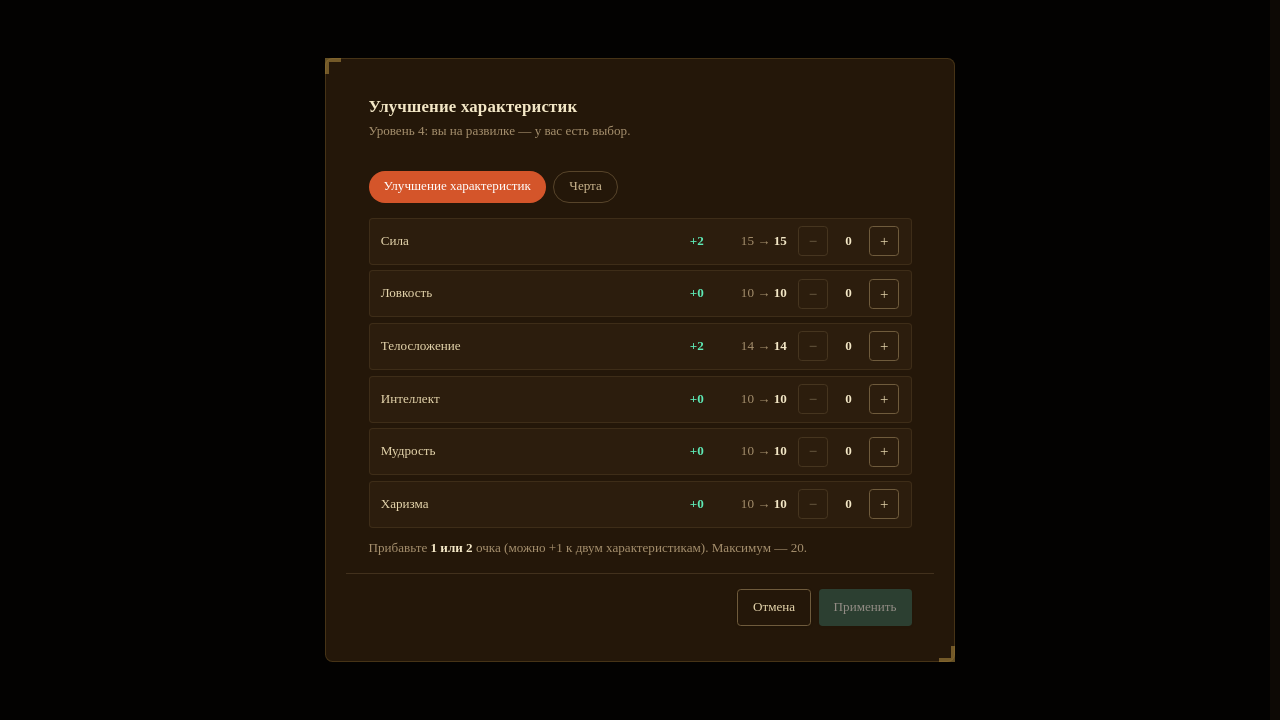
Test case: AsiChoiceModal › feat mode › lazily loads feat details via the view button
This screenshot has width=1280, height=720.
What coordinates should you click on to do the following:
click the button "Черта"
I would click on:
 (586, 187)
Its box is [553, 171, 618, 203].
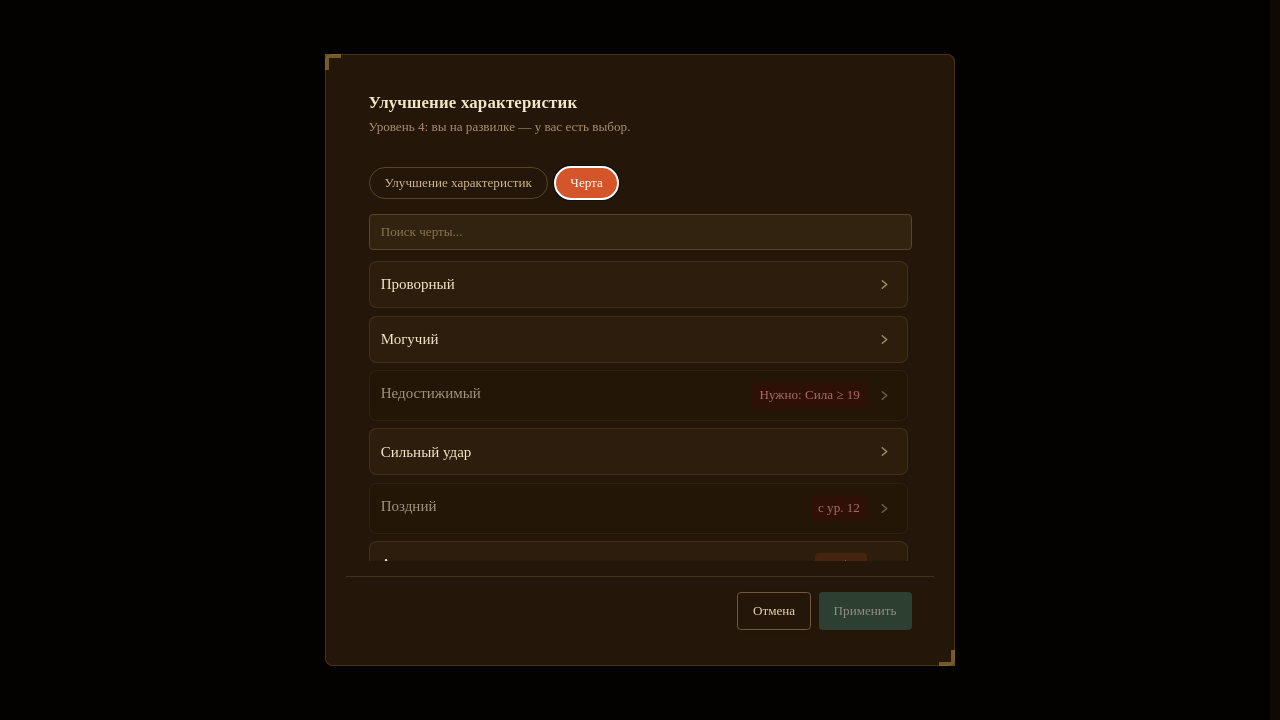
Expected: the text "Быстрее всех." is not shown
What coordinates should you click on to do the following:
click the button named "Посмотреть: Проворный"
I would click on:
 (884, 285)
Its box is [873, 273, 896, 296].
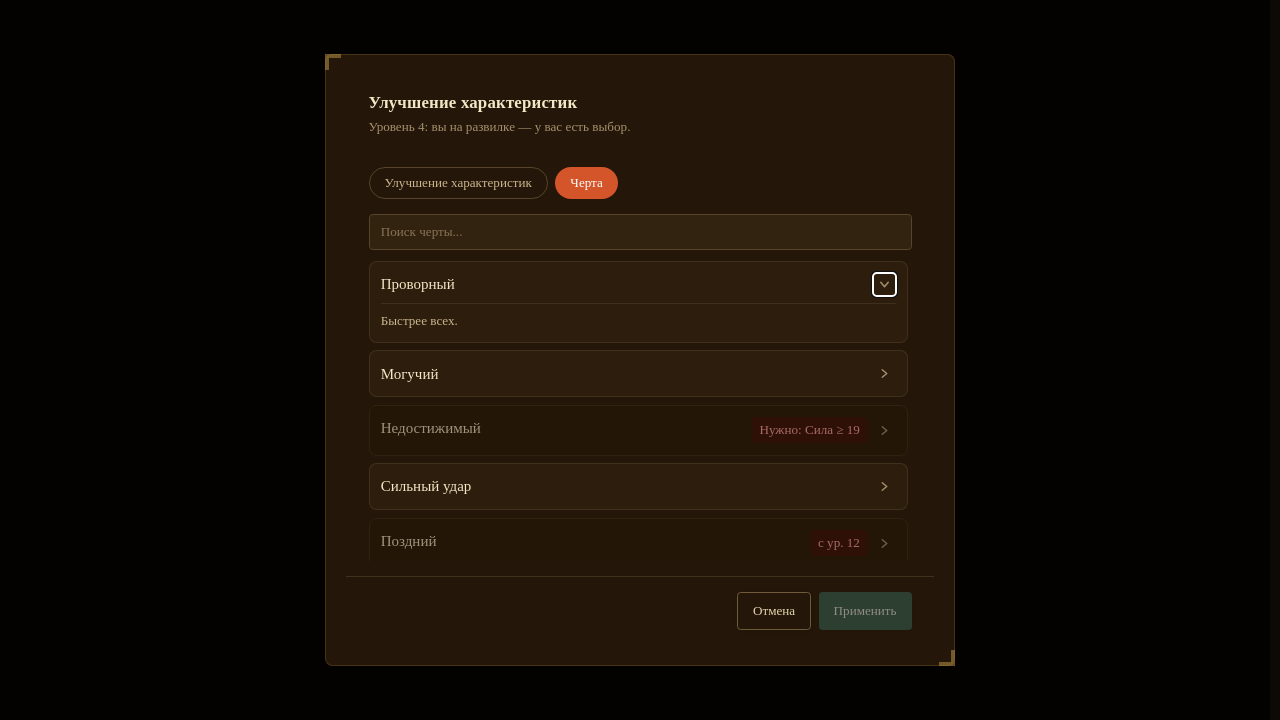
Expected: the text "Быстрее всех." is shown, [381, 313, 458, 328]
